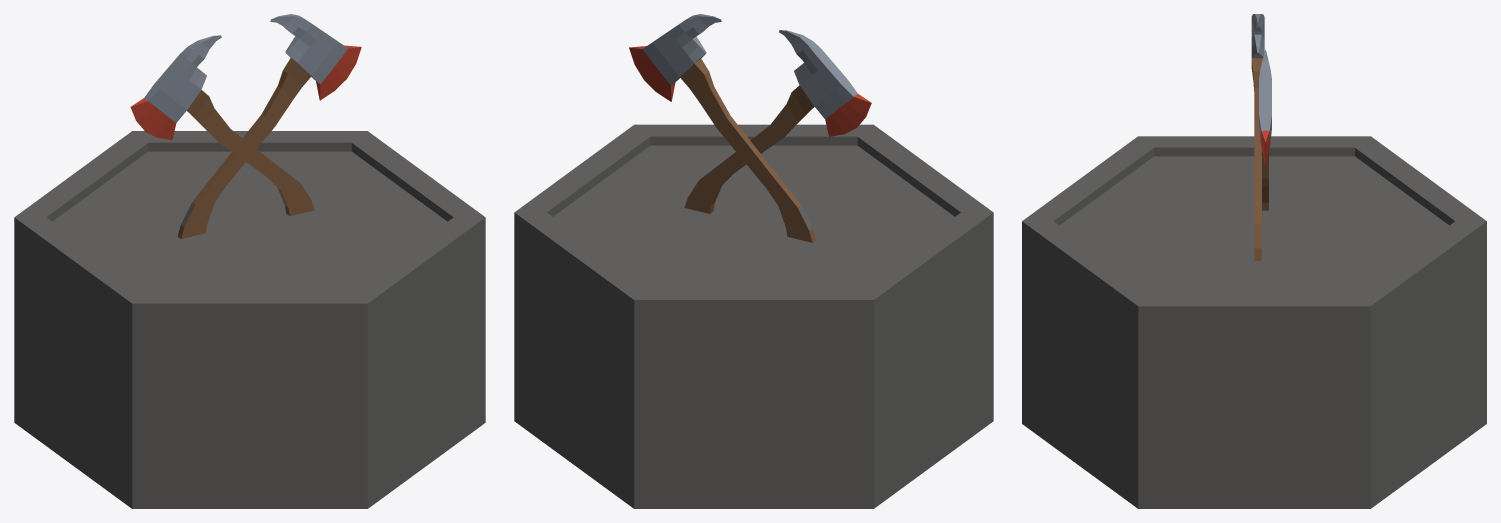
Rendered from Building_Objects_Fire_Departmant.fbx.
The picture shows the model from 3 angles, left to right: view 1: azimuth 30°, elevation 25°; view 2: azimuth 150°, elevation 25°; view 3: azimuth 270°, elevation 25°; orthographic projection. The views are drawn at different scales.
Parts seen in each view (by area): view 1: Building_Objects_Fire_Departmant; view 2: Building_Objects_Fire_Departmant; view 3: Building_Objects_Fire_Departmant.
Part boxes in pixels (<box>): Building_Objects_Fire_Departmant: <box>14,14,485,508</box>; Building_Objects_Fire_Departmant: <box>514,14,993,508</box>; Building_Objects_Fire_Departmant: <box>1022,14,1486,508</box>.
Size of the model in its own units: 136 by 145 by 157.
